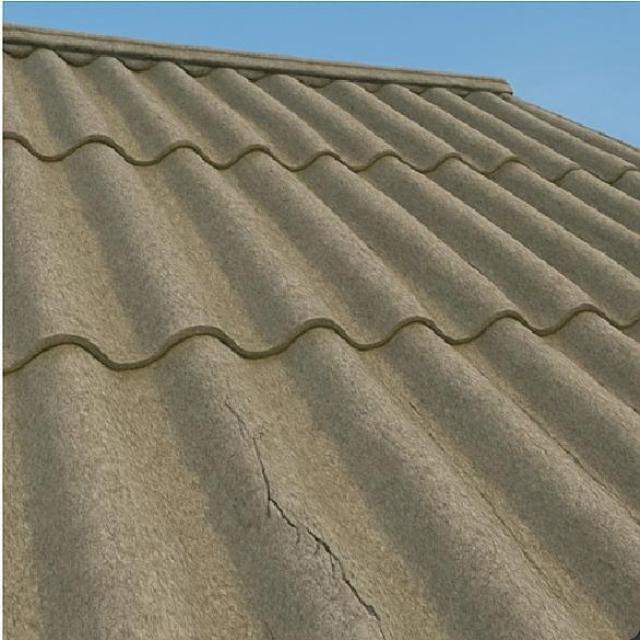fissure: (214, 386, 398, 640)
